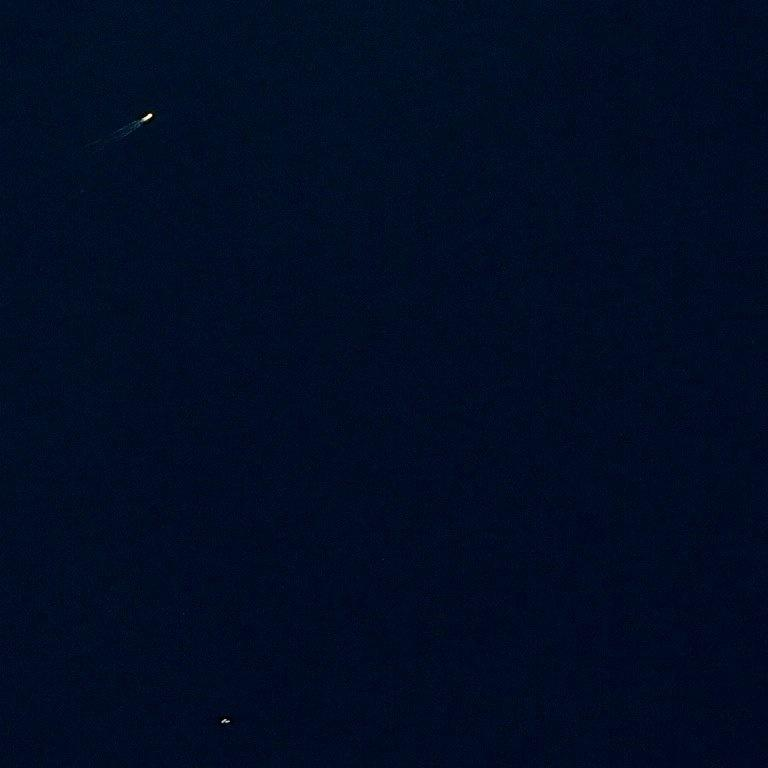ship: (59, 32, 80, 50), (217, 720, 234, 722), (151, 113, 153, 115), (142, 120, 144, 122), (140, 119, 142, 120), (221, 721, 222, 722), (229, 696, 230, 697), (76, 722, 76, 724)
